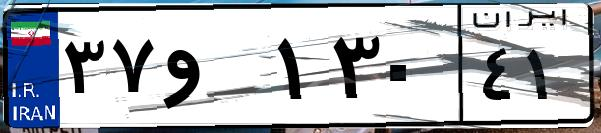0: (385, 28, 445, 110)
1: (270, 28, 330, 110), (525, 38, 570, 115)
3: (330, 28, 385, 110), (57, 26, 110, 100)
4: (475, 38, 525, 113)
7: (110, 28, 158, 98)
و: (158, 20, 270, 120)
